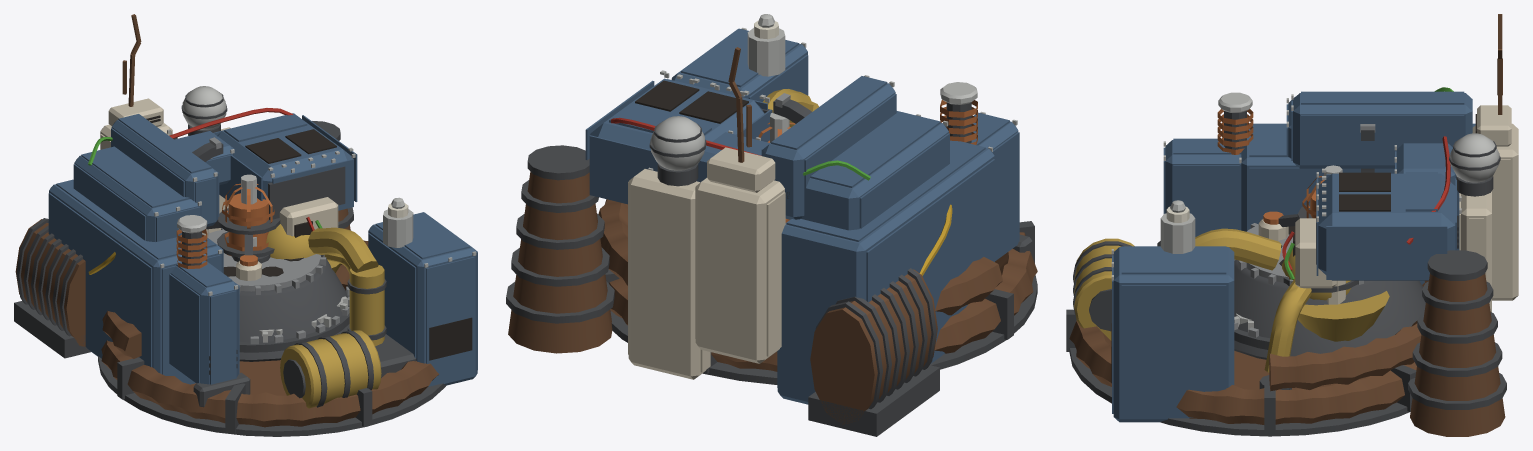
File: electromagnetic-plant.glb
The picture shows the model from 3 angles, left to right: view 1: azimuth 30°, elevation 25°; view 2: azimuth 150°, elevation 25°; view 3: azimuth 270°, elevation 25°; orthographic projection. The views are drawn at different scales.
Visible parts, largest first — view 1: body, anim_spin_arms; view 2: body; view 3: body, anim_spin_arms.
Boxes of the visible parts, left/top/right/bottom form: body: left=14, top=14, right=477, bottom=436; anim_spin_arms: left=202, top=174, right=280, bottom=280; body: left=506, top=14, right=1037, bottom=436; body: left=1066, top=14, right=1518, bottom=436; anim_spin_arms: left=1258, top=165, right=1345, bottom=304.
Bounding box in the file's own units: 3.55 × 3.02 × 3.93.
